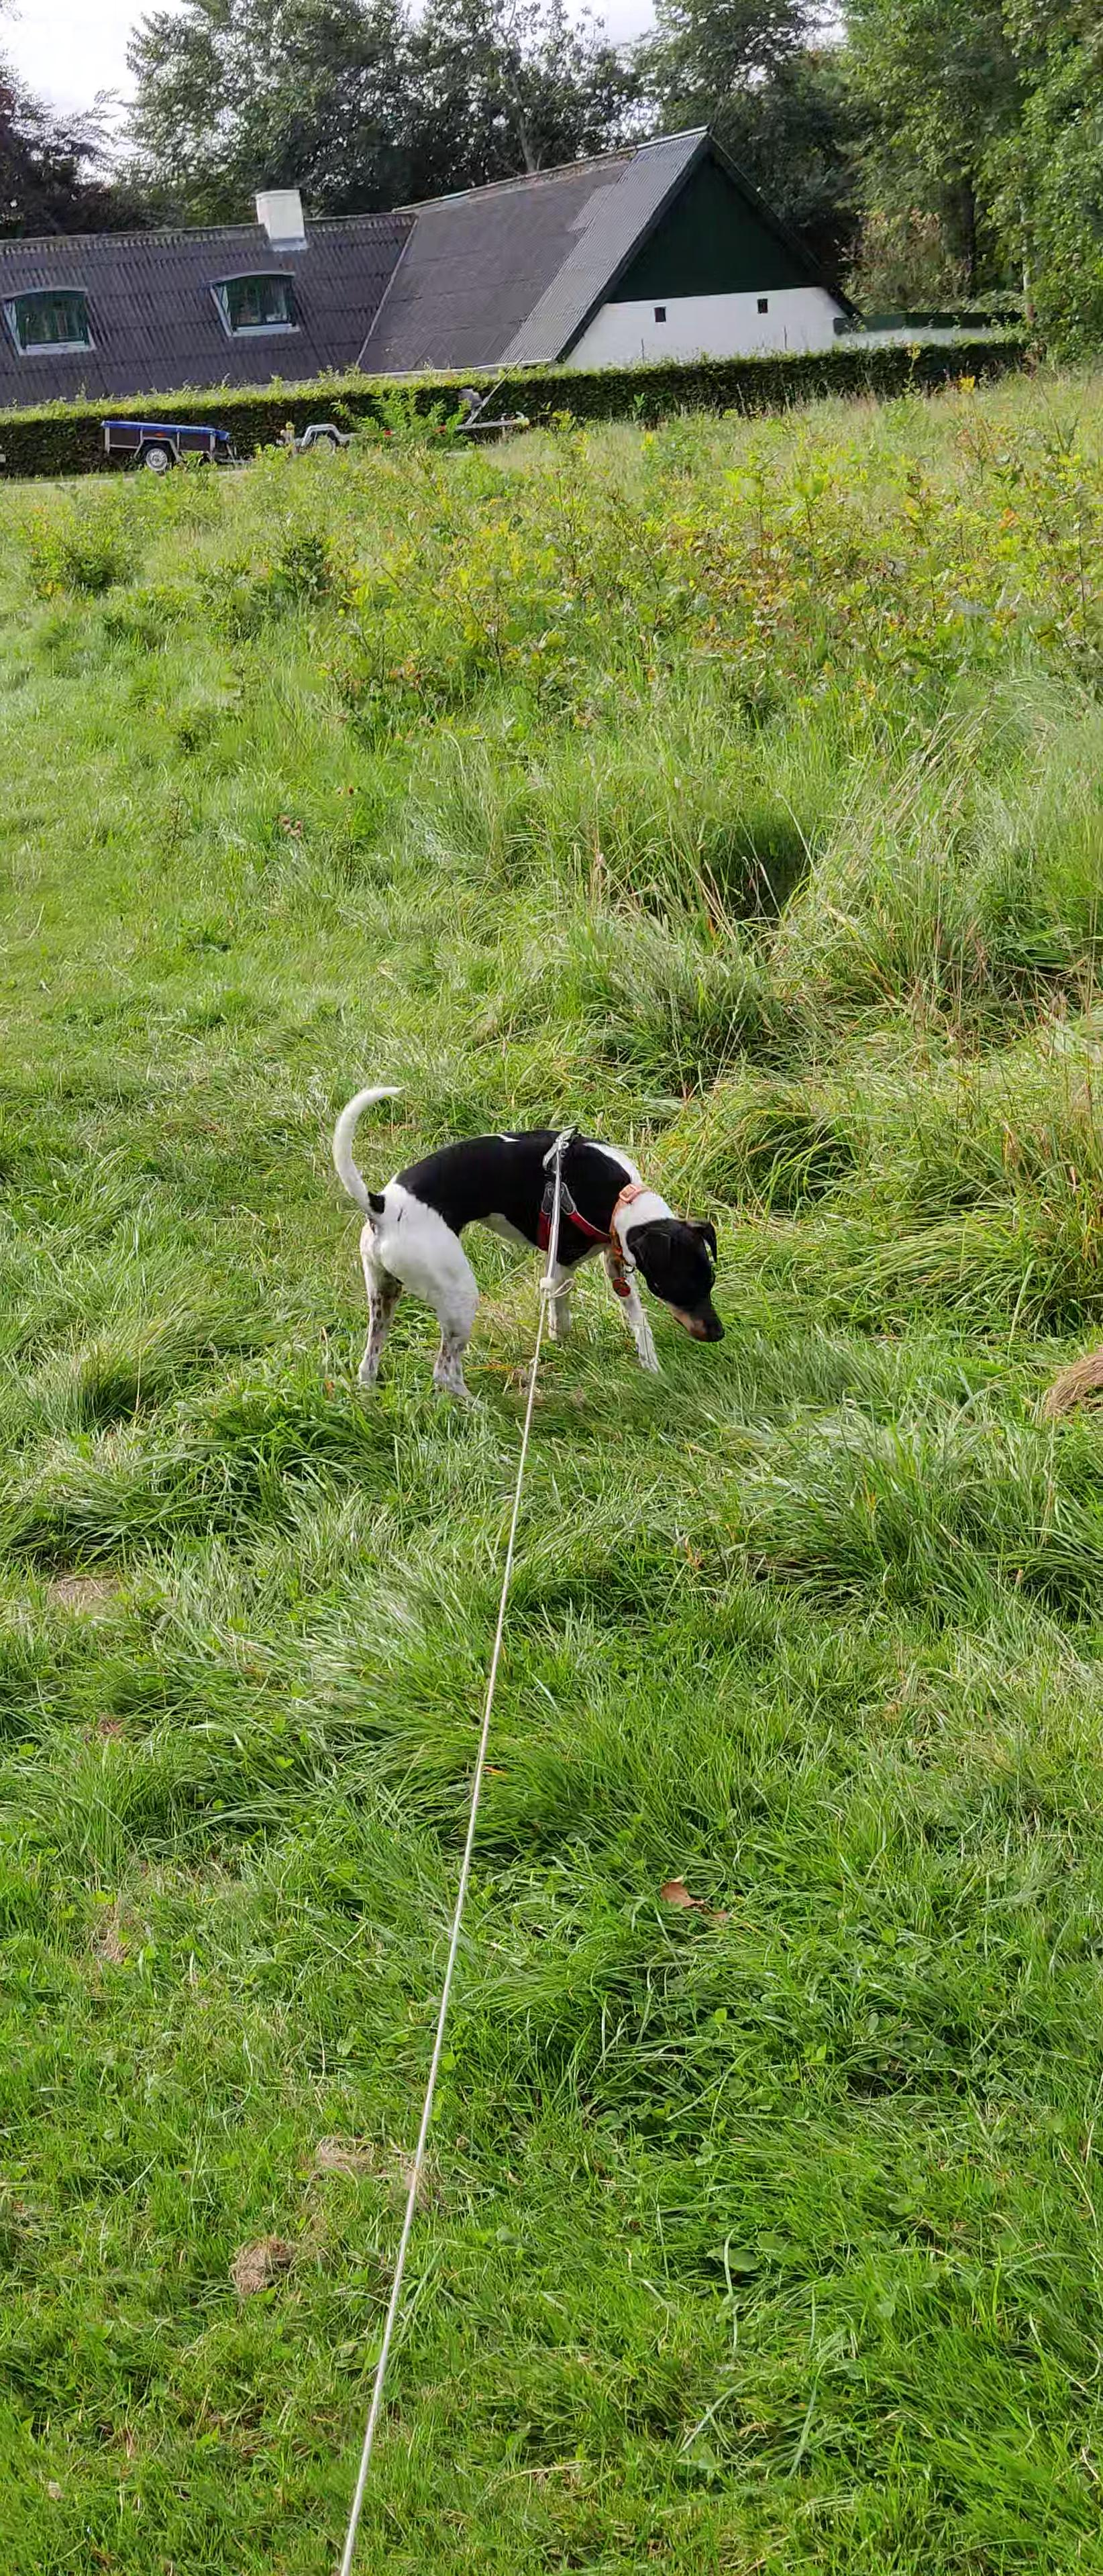Dog: (327, 1068, 741, 1421)
